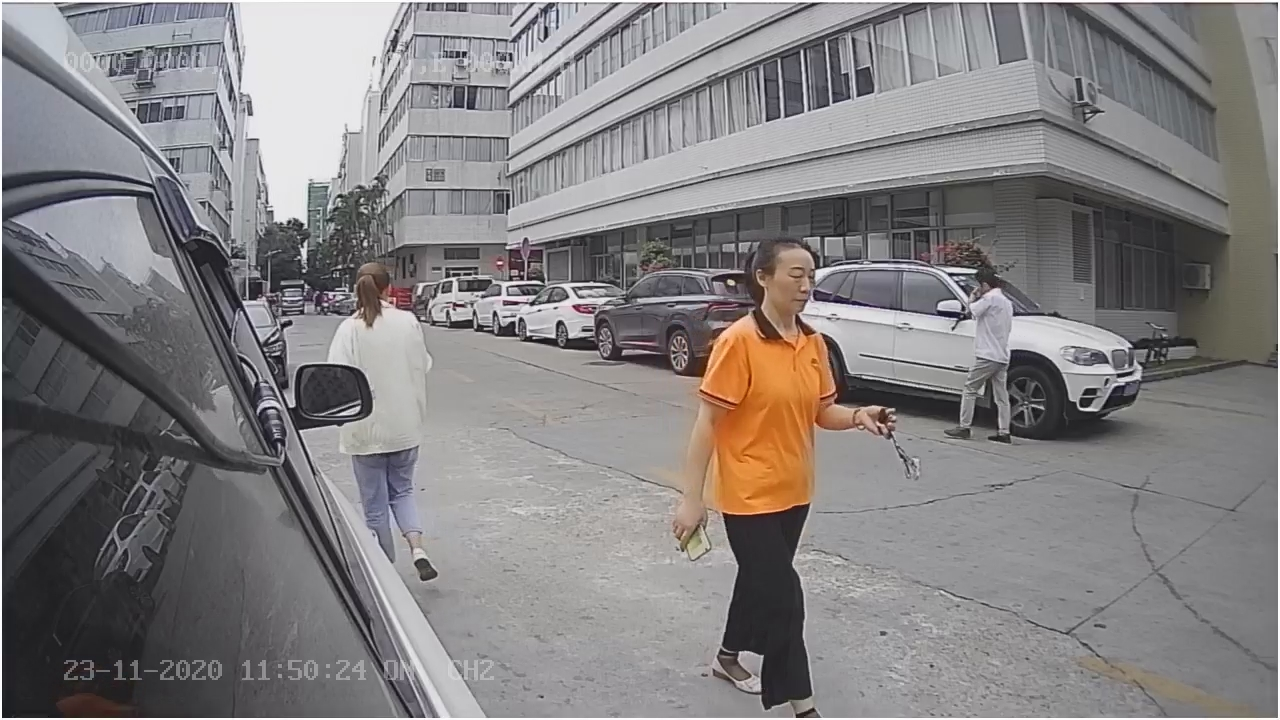person: (667, 222, 895, 714), (940, 260, 1020, 449), (327, 254, 436, 360)
